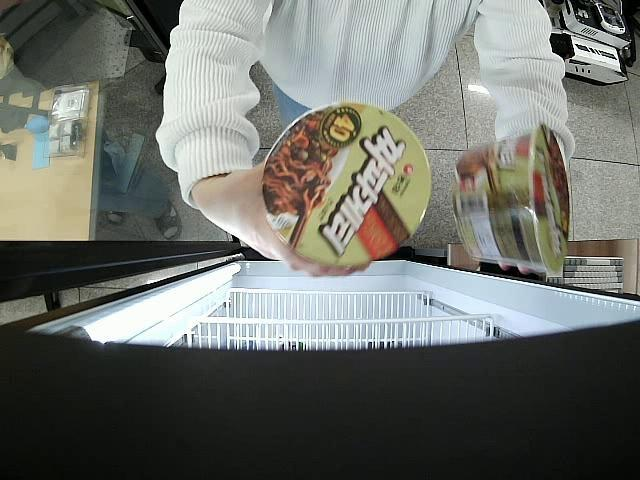03_chapagetti_L: (261, 100, 432, 266), (456, 123, 572, 270)
